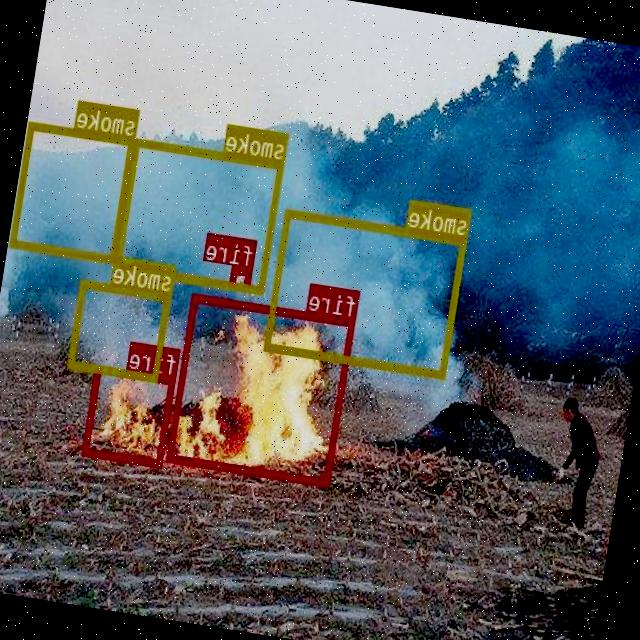fire: (168, 293, 356, 487), (84, 364, 177, 466), (230, 264, 254, 292)
smoke: (265, 208, 468, 378), (115, 138, 286, 292), (11, 121, 136, 262), (68, 279, 172, 382)
